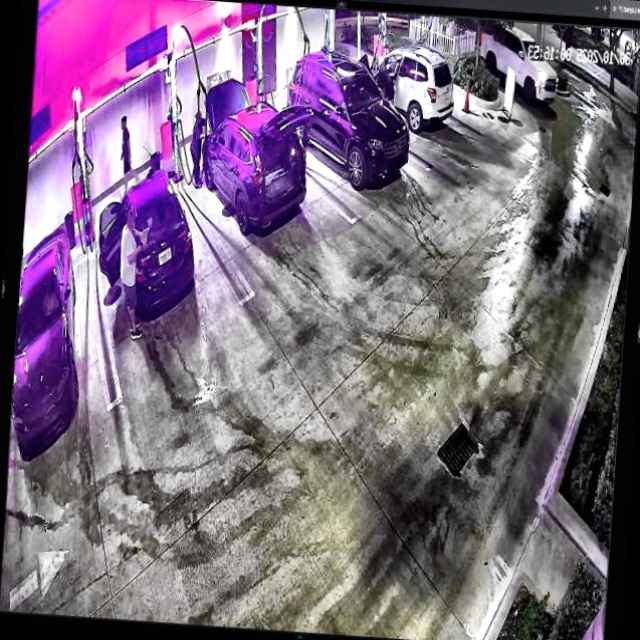Car: (198, 74, 316, 235), (283, 52, 415, 189), (93, 165, 198, 328)
